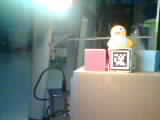duck: (98, 14, 129, 57)
